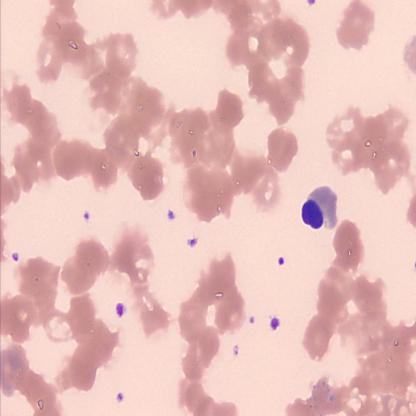NRC: (300, 185, 338, 232)
